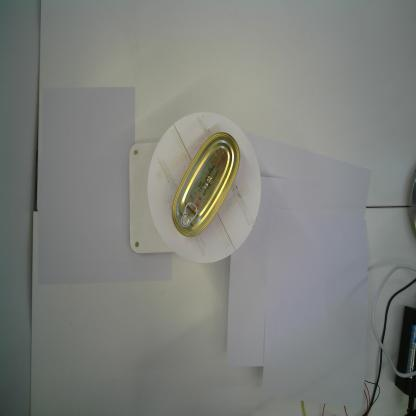Canned Food: (171, 129, 242, 238)
